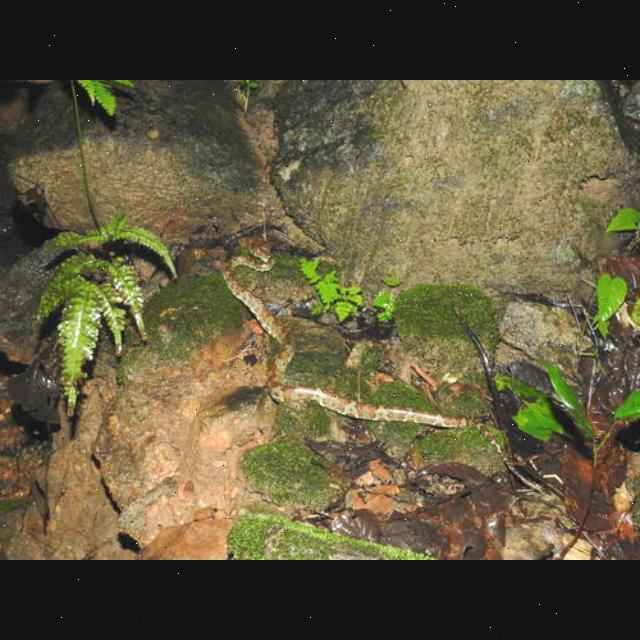snake: (204, 218, 503, 470)
